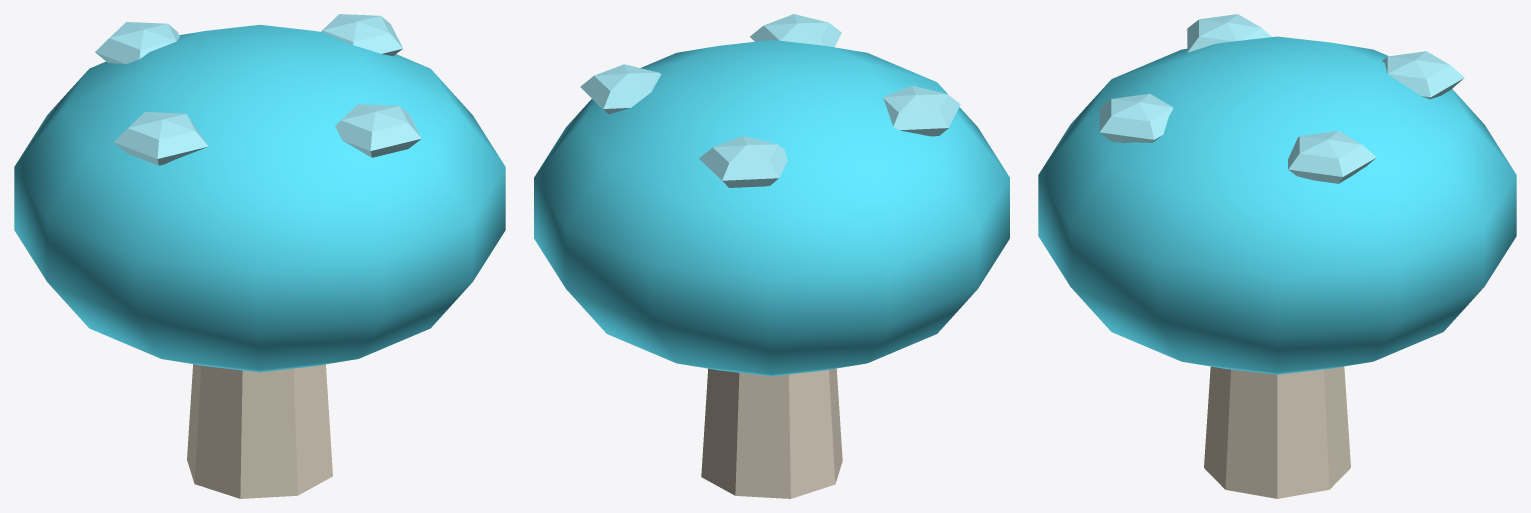
File: Fruto_GlowMushroom.fbx
3 views of the same model, side by side, from view 1: azimuth 30°, elevation 25°; view 2: azimuth 150°, elevation 25°; view 3: azimuth 270°, elevation 25° (orthographic). The views are drawn at different scales.
Visible parts, largest first — view 1: Produto_GlowMushroom, Cabo_GlowMushroom; view 2: Produto_GlowMushroom, Cabo_GlowMushroom; view 3: Produto_GlowMushroom, Cabo_GlowMushroom.
Part boxes in pixels (x1,y1,x2,y2): Produto_GlowMushroom: (14,24,505,372); Cabo_GlowMushroom: (95,14,421,498); Produto_GlowMushroom: (534,40,1009,376); Cabo_GlowMushroom: (580,14,960,498); Produto_GlowMushroom: (1038,36,1516,374); Cabo_GlowMushroom: (1099,14,1464,498).
Size of the model in its own units: 0.4875 by 0.45 by 0.4875.
1 material, 1 textured.
